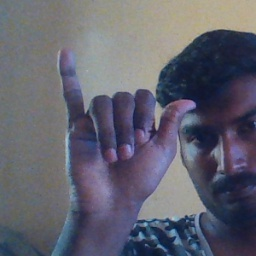J: (53, 47, 197, 206)
